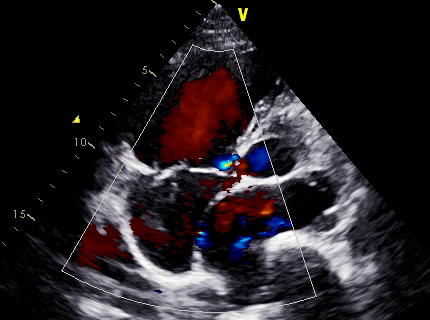TR: (191, 139, 259, 211)
